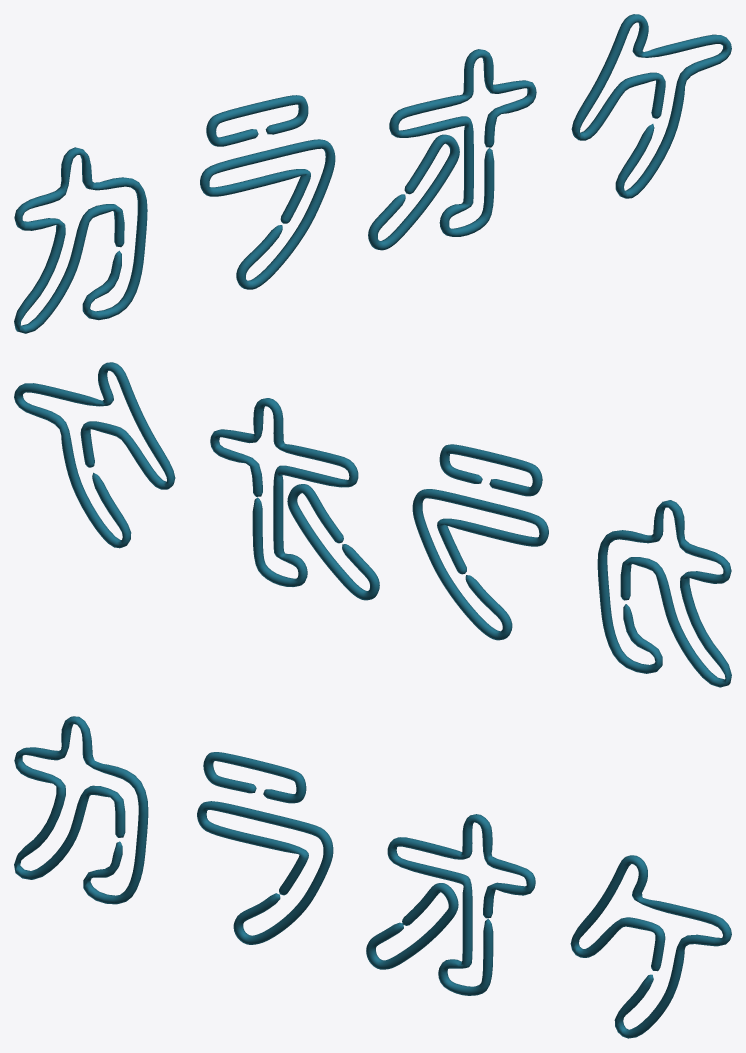
The model's file is Karaoke Sign Blue.fbx.
3 views of the same model, one above another, from view 1: azimuth 30°, elevation 25°; view 2: azimuth 150°, elevation 25°; view 3: azimuth 330°, elevation 25° (orthographic).
Parts seen in each view (by area): view 1: pCube7; view 2: pCube7; view 3: pCube7.
Boxes of the visible parts, x1=… form: pCube7: x1=14, y1=14, x2=731, y2=333; pCube7: x1=14, y1=362, x2=731, y2=687; pCube7: x1=14, y1=716, x2=731, y2=1038.
Size of the model in its own units: 21.25 by 5.26 by 0.3853.
